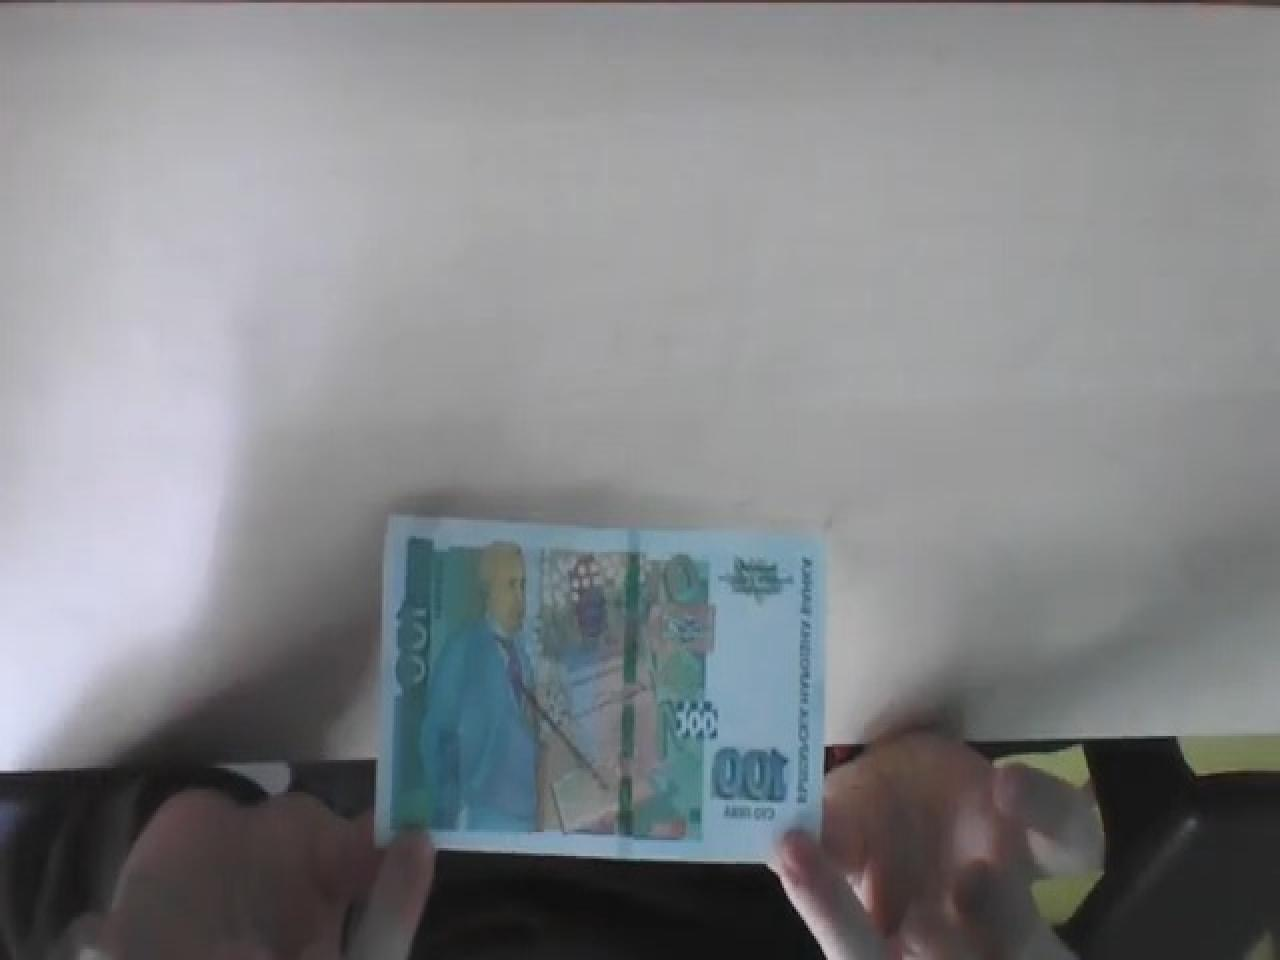100leva: (372, 511, 826, 869), (708, 747, 790, 809)
